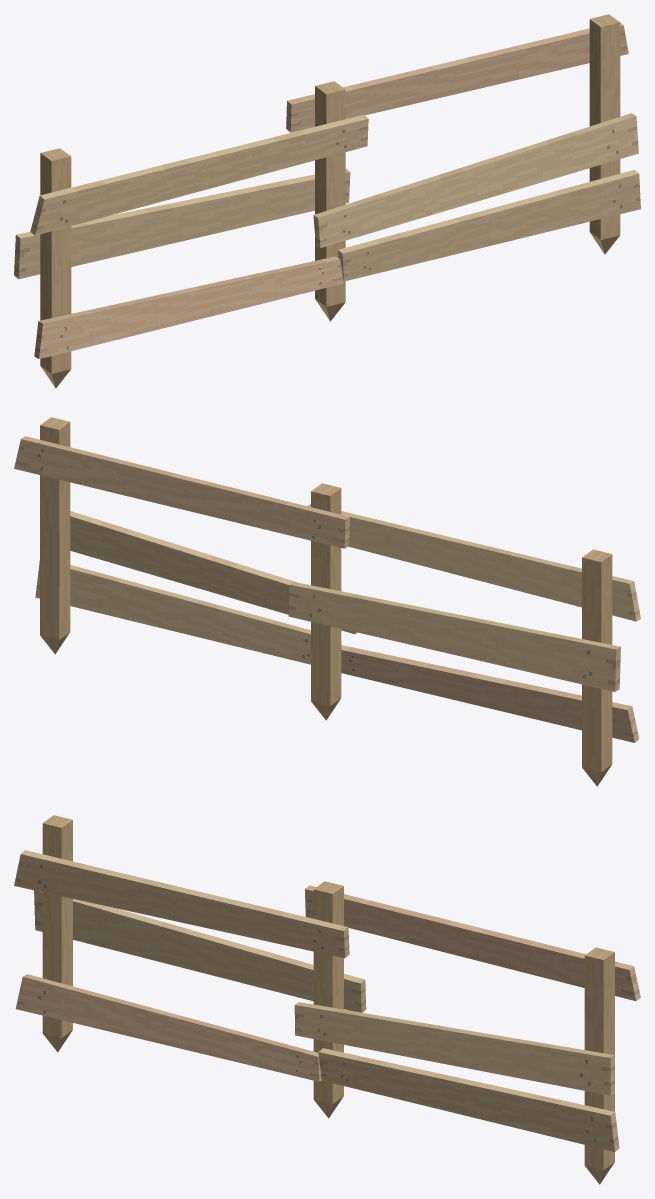
Rendered from 00e4_Wooden_Fence.glb.
3 renders of one model, top to bottom at view 1: azimuth 30°, elevation 25°; view 2: azimuth 150°, elevation 25°; view 3: azimuth 330°, elevation 25°, orthographic.
Visible parts, largest first — view 1: part_0; view 2: part_0; view 3: part_0.
Part boxes in pixels (box(x1,y1,x2,y2)): part_0: box(14, 14, 640, 388); part_0: box(14, 417, 640, 786); part_0: box(14, 815, 640, 1184).
Bounding box in the file's own units: 3.01 × 1.1 × 0.2209.
1 material, 1 textured.
